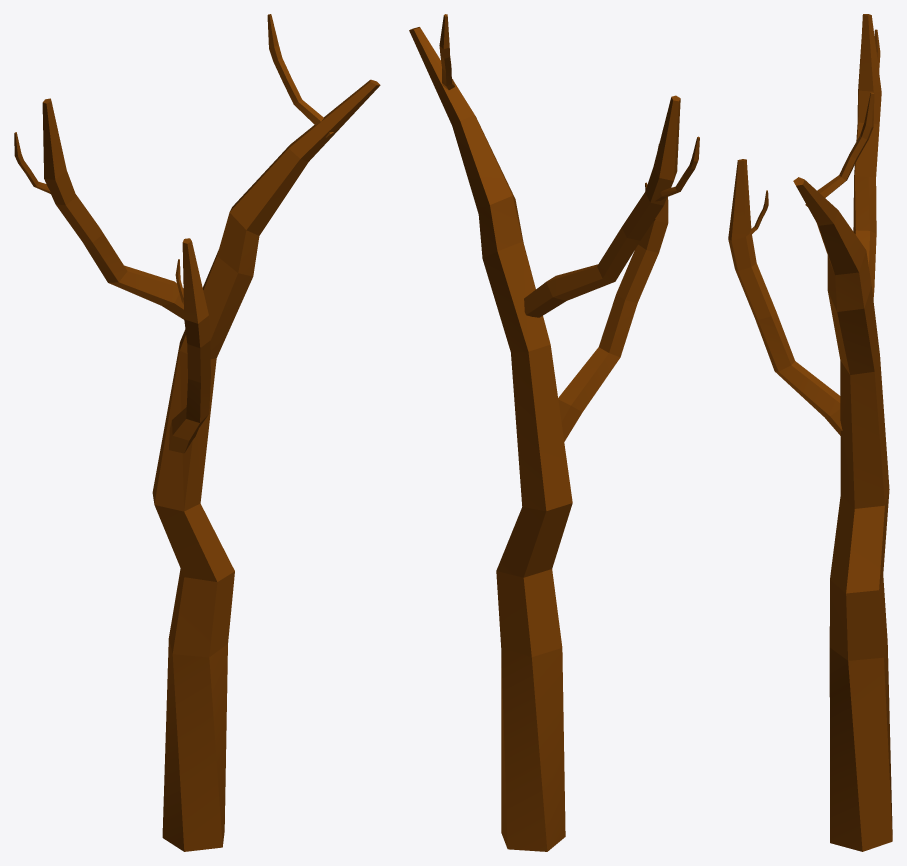
Rendered from TreeNoLeavesSmall.obj.
The picture shows the model from 3 angles, left to right: view 1: azimuth 30°, elevation 25°; view 2: azimuth 150°, elevation 25°; view 3: azimuth 270°, elevation 25°; orthographic projection. The views are drawn at different scales.
Parts seen in each view (by area): view 1: Cylinder_Cylinder.002; view 2: Cylinder_Cylinder.002; view 3: Cylinder_Cylinder.002.
Part boxes in pixels (left/top/right/bottom): Cylinder_Cylinder.002: left=14, top=14, right=380, bottom=851; Cylinder_Cylinder.002: left=409, top=14, right=699, bottom=851; Cylinder_Cylinder.002: left=728, top=14, right=892, bottom=851.
Size of the model in its own units: 2.11 by 4.96 by 0.9454.
1 material, 1 textured.
